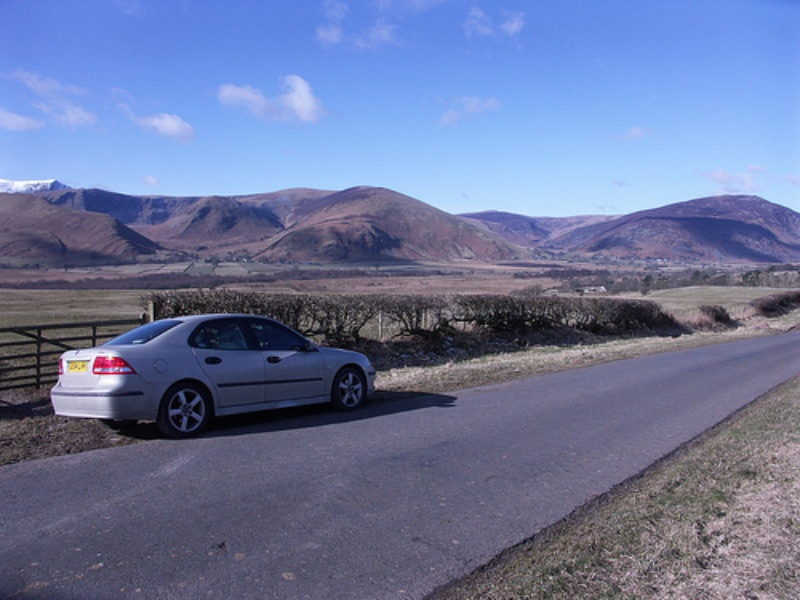car: (50, 313, 376, 437)
